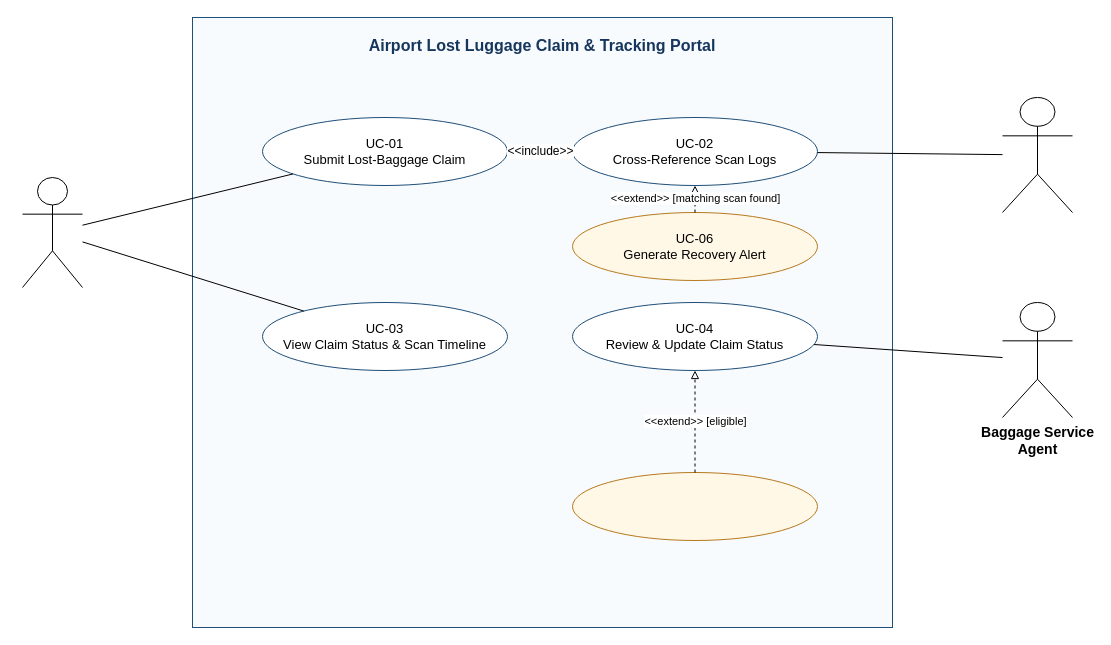
This 1111x645 diagram has some shape labels left out. Here are the shapes that lost their labels. From the top down, the box of each, then its label:
(1002, 96, 1072, 212): Baggage Scan System
(22, 176, 82, 288): Passenger
(572, 472, 818, 540): UC-05 Initiate Compensation Workflow
